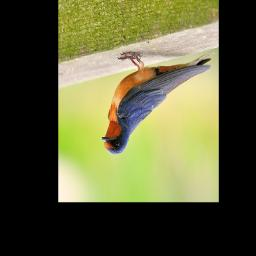Swallow: (99, 45, 212, 159)
